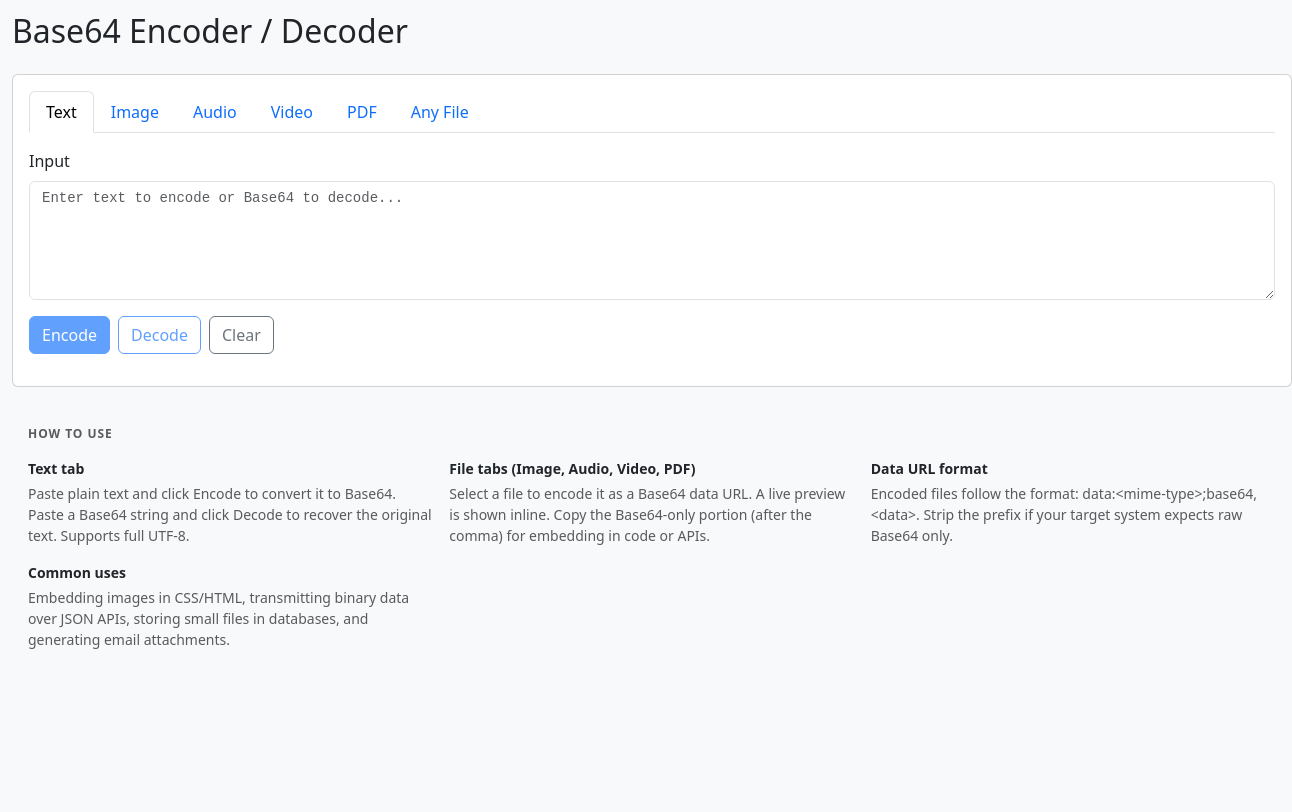
Scenario: Base64Tool — Text tab › shows error for invalid base64 decode
In the text box named "Text input": (652,241) top-left (29, 181), bottom-right (1275, 300), type "!!!invalid!!!"
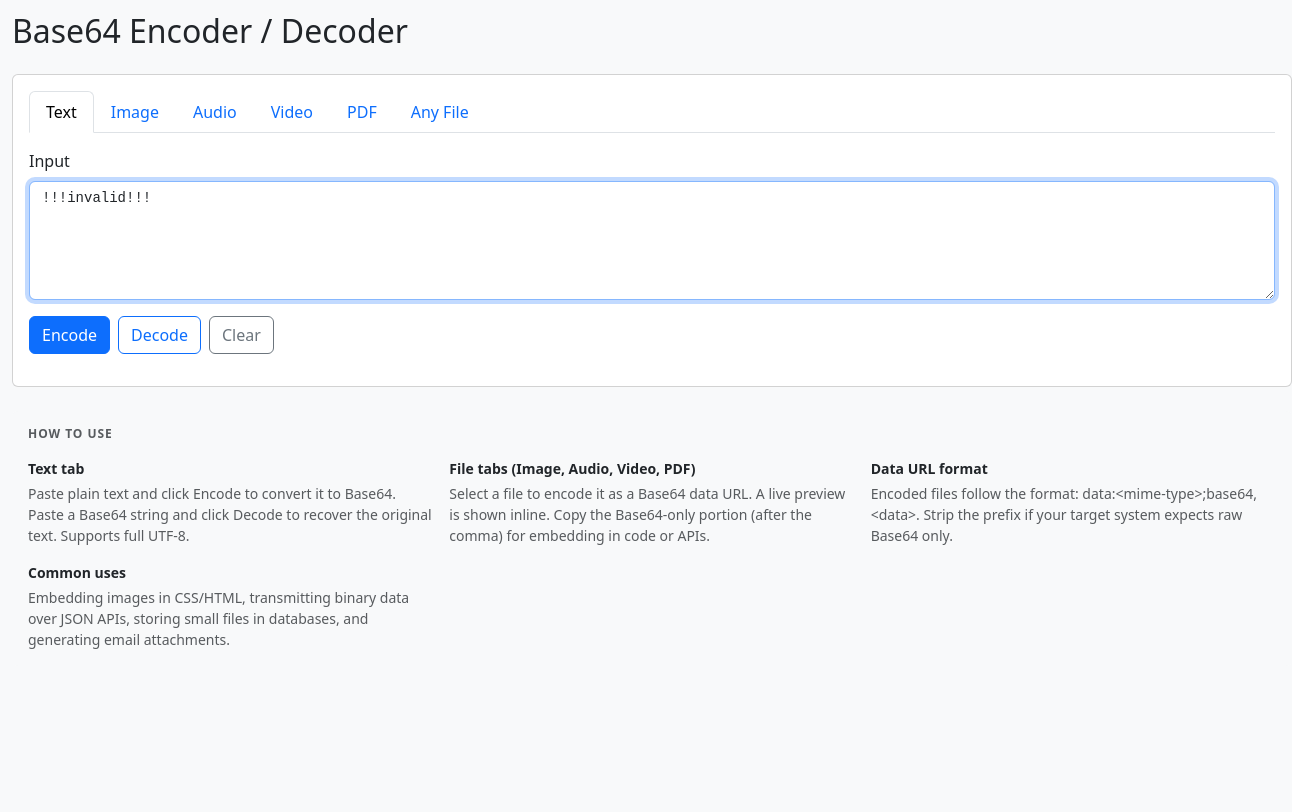
Click the button "Decode": (159,335) top-left (118, 316), bottom-right (201, 354)
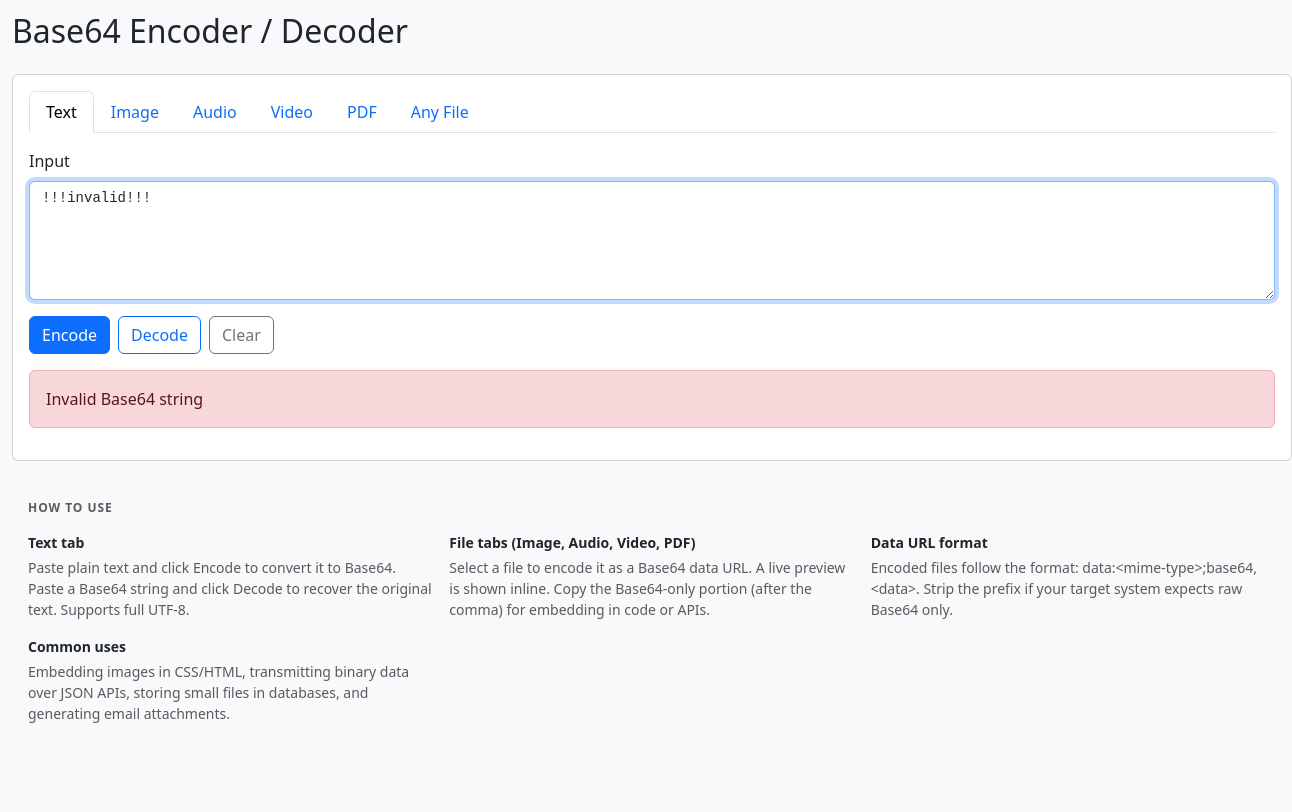
Check: the message "Invalid Base64 string" is shown, box top-left (29, 370), bottom-right (1275, 428)
